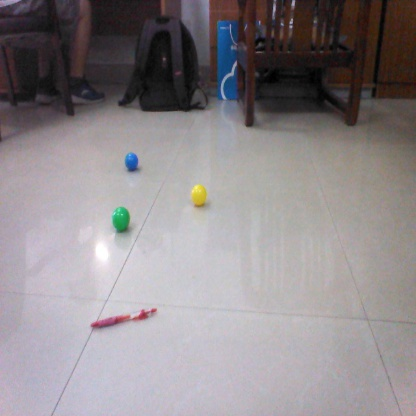ball: (109, 208, 133, 230), (189, 184, 210, 206), (125, 152, 139, 169)
pen: (93, 307, 156, 327)
